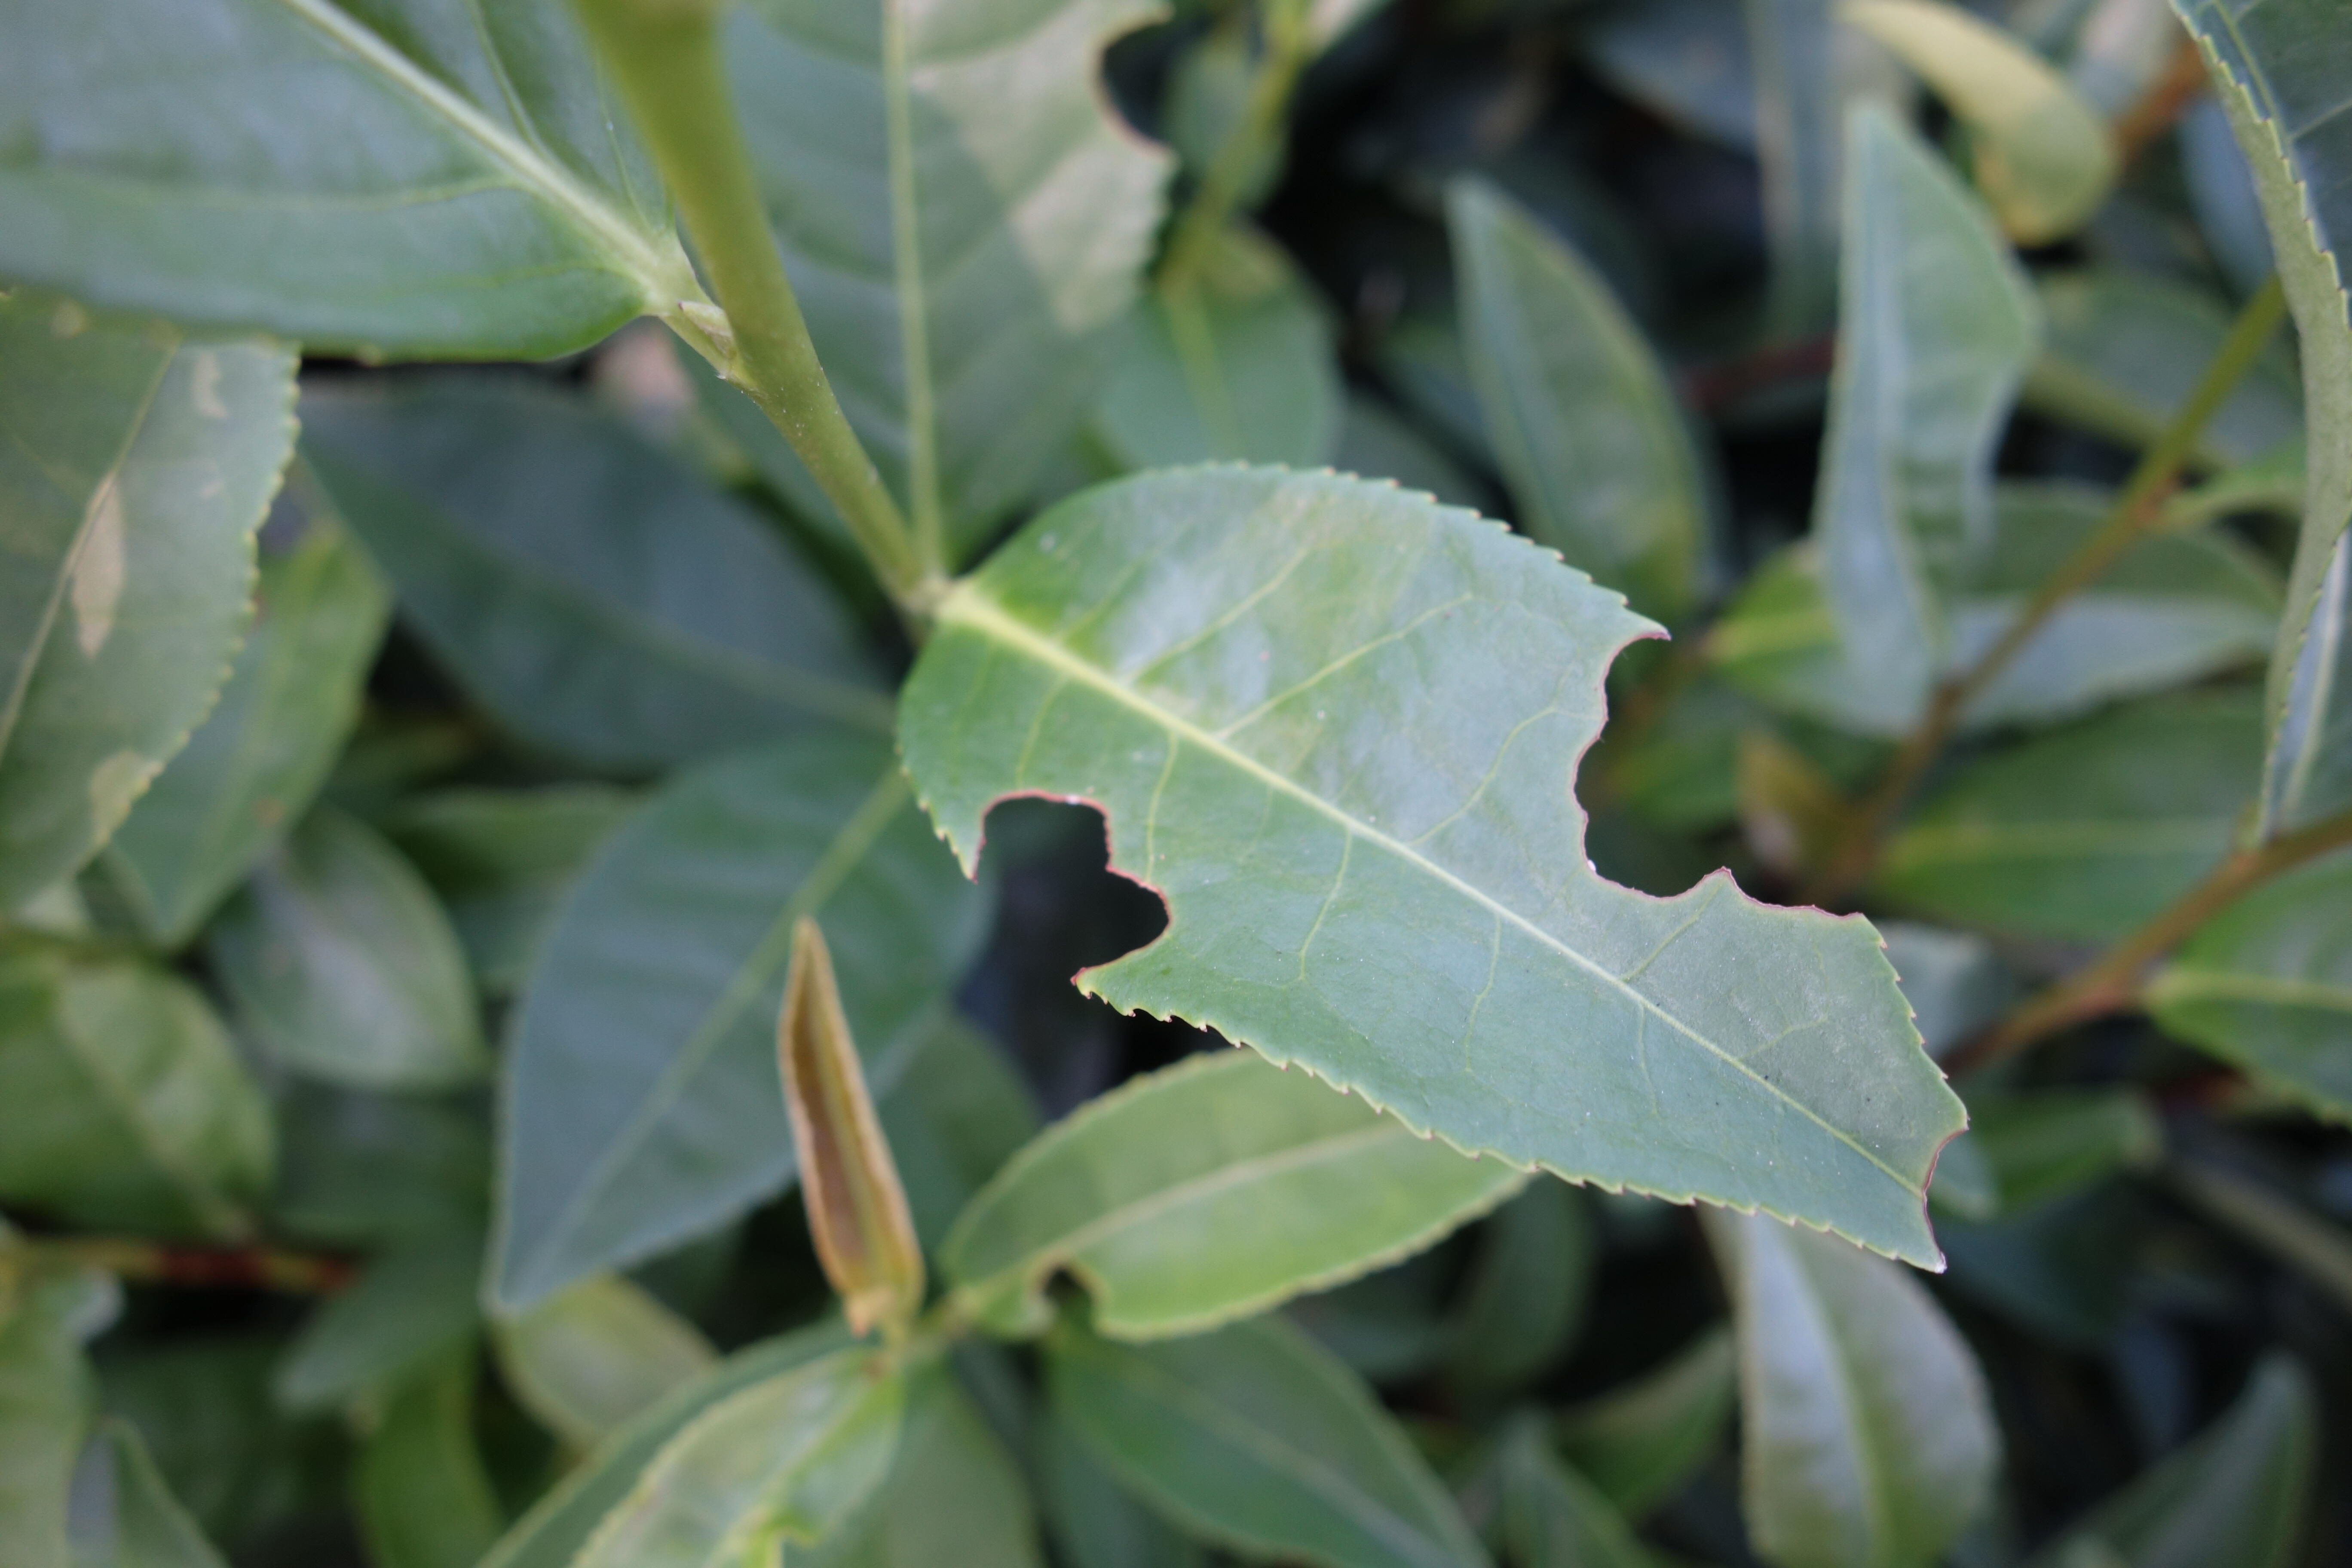chihuo_high: (891, 453, 1972, 1274)
chihuo_low: (938, 1053, 1545, 1342)
